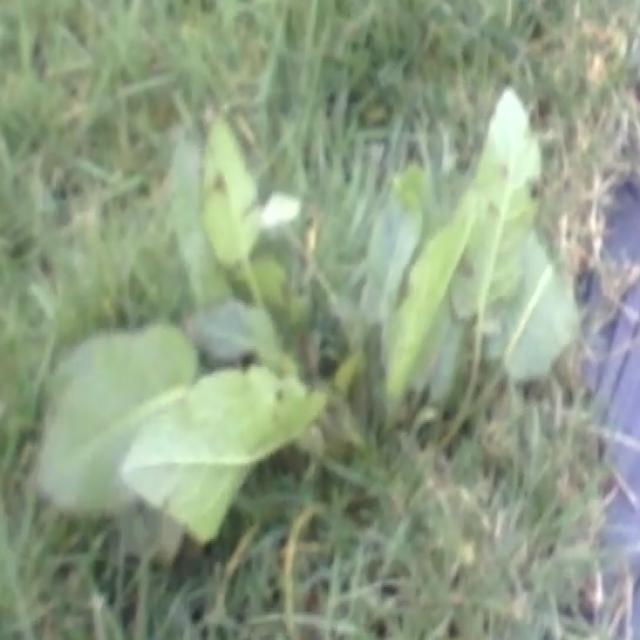organic waste: (19, 68, 592, 543)
